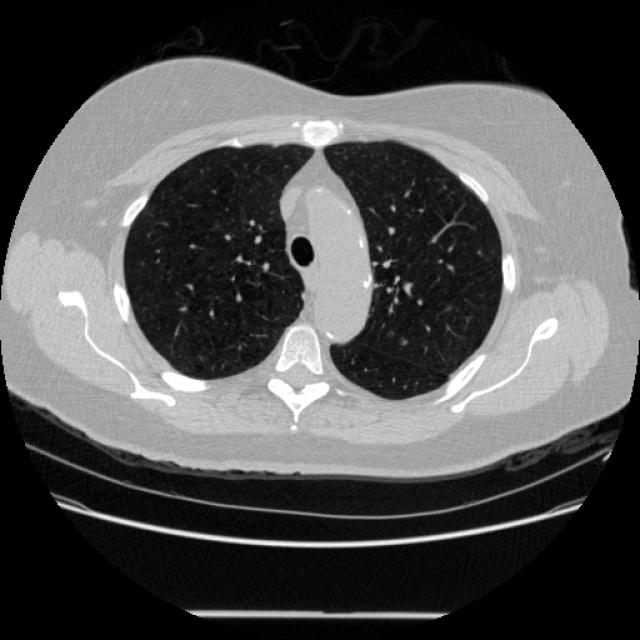nodule: (392, 331, 412, 351)
